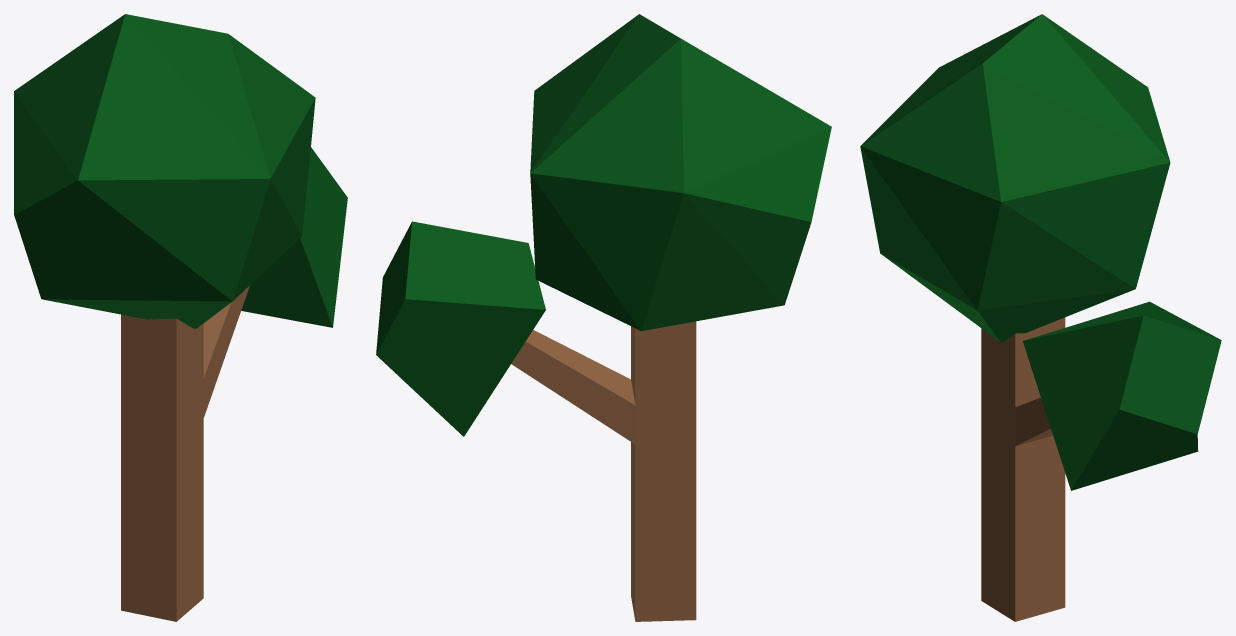
The model's file is Tree 2601_blt.glb.
3 renders of one model, left to right at view 1: azimuth 30°, elevation 25°; view 2: azimuth 150°, elevation 25°; view 3: azimuth 270°, elevation 25°, orthographic. The views are drawn at different scales.
Visible parts, largest first — view 1: blt; view 2: blt; view 3: blt.
Part boxes in pixels (box(x1,y1,x2,y2)): blt: box(14, 14, 347, 621); blt: box(376, 14, 831, 621); blt: box(860, 14, 1221, 621).
Bounding box in the file's own units: 1.74 × 2.56 × 1.45.
